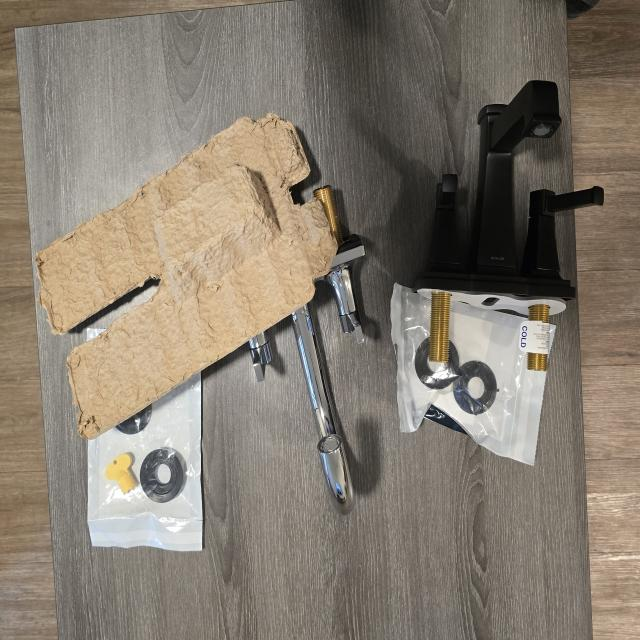10o: (290, 304, 355, 513), (318, 260, 364, 344), (314, 186, 364, 260), (249, 333, 271, 381)
12o: (88, 372, 203, 551), (86, 327, 104, 341)
13o: (391, 283, 565, 464)
9: (423, 81, 604, 361), (519, 300, 555, 371)
